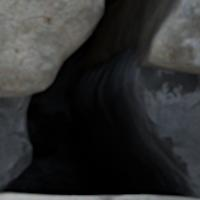brick: (0, 193, 194, 199)
broken_brick: (0, 0, 101, 97), (142, 0, 199, 74)
crack: (2, 0, 198, 199)
